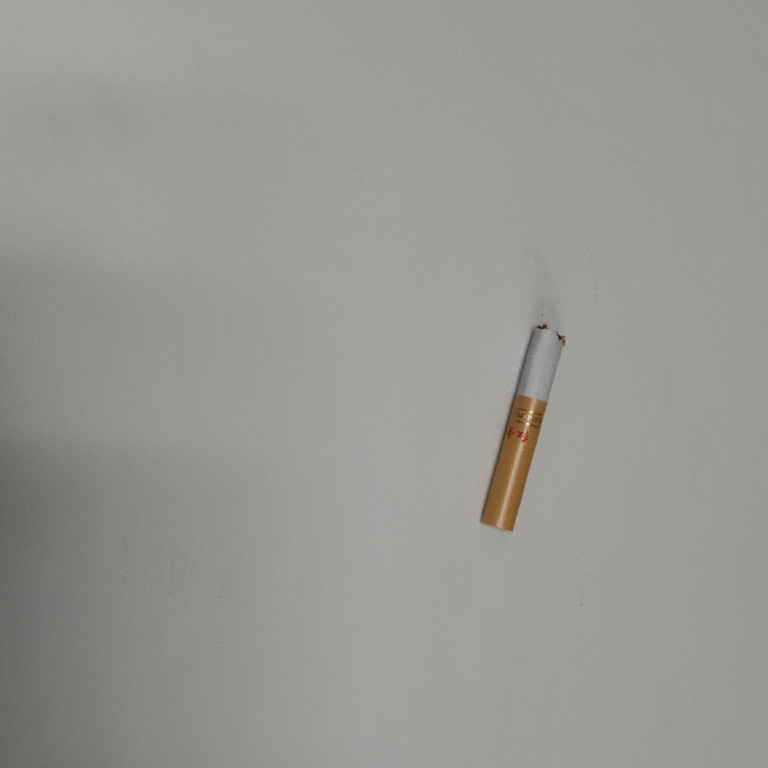cigarette: (475, 319, 569, 536)
